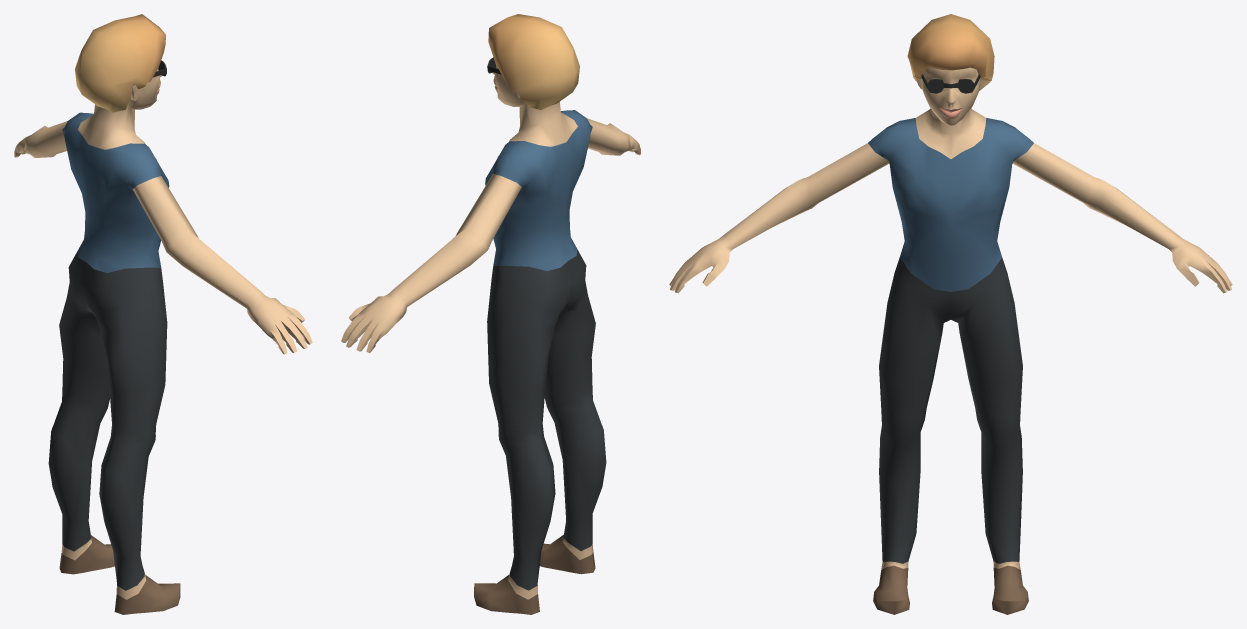
The model's file is _ollower.fbx.
3 renders of one model, left to right at view 1: azimuth 30°, elevation 25°; view 2: azimuth 150°, elevation 25°; view 3: azimuth 270°, elevation 25°, orthographic. The views are drawn at different scales.
Visible parts, largest first — view 1: Man.001; view 2: Man.001; view 3: Man.001.
Boxes of the visible parts, x1=… form: Man.001: x1=14, y1=14, x2=312, y2=614; Man.001: x1=341, y1=14, x2=640, y2=614; Man.001: x1=669, y1=14, x2=1232, y2=614.
Size of the model in its own units: 34.47 by 168 by 149.
